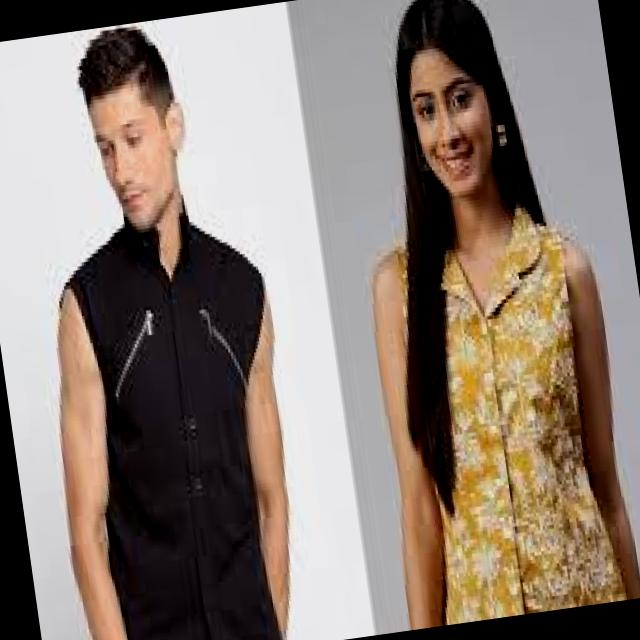face: (88, 84, 184, 232), (410, 49, 497, 199)
top-wear: (56, 217, 314, 640), (391, 194, 622, 626)
